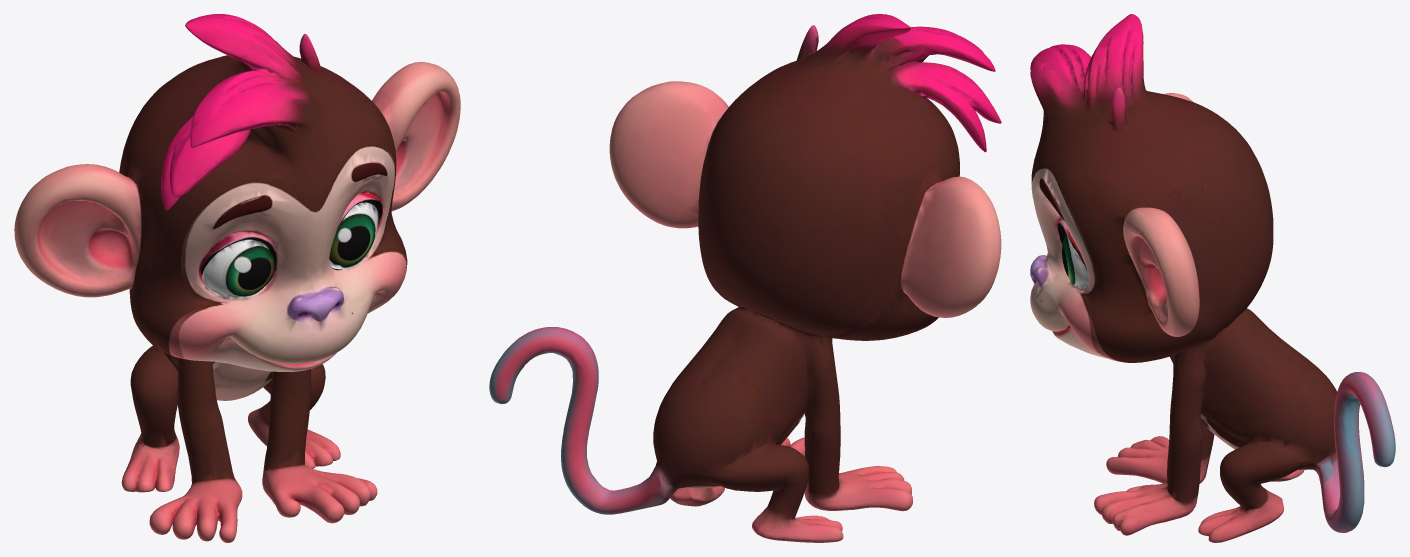
The model's file is monkey.glb.
3 views of the same model, side by side, from view 1: azimuth 30°, elevation 25°; view 2: azimuth 150°, elevation 25°; view 3: azimuth 270°, elevation 25° (orthographic). The views are drawn at different scales.
Bounding box in the file's own units: 1.71 × 1.9 × 1.41.
1 material, 1 textured.
